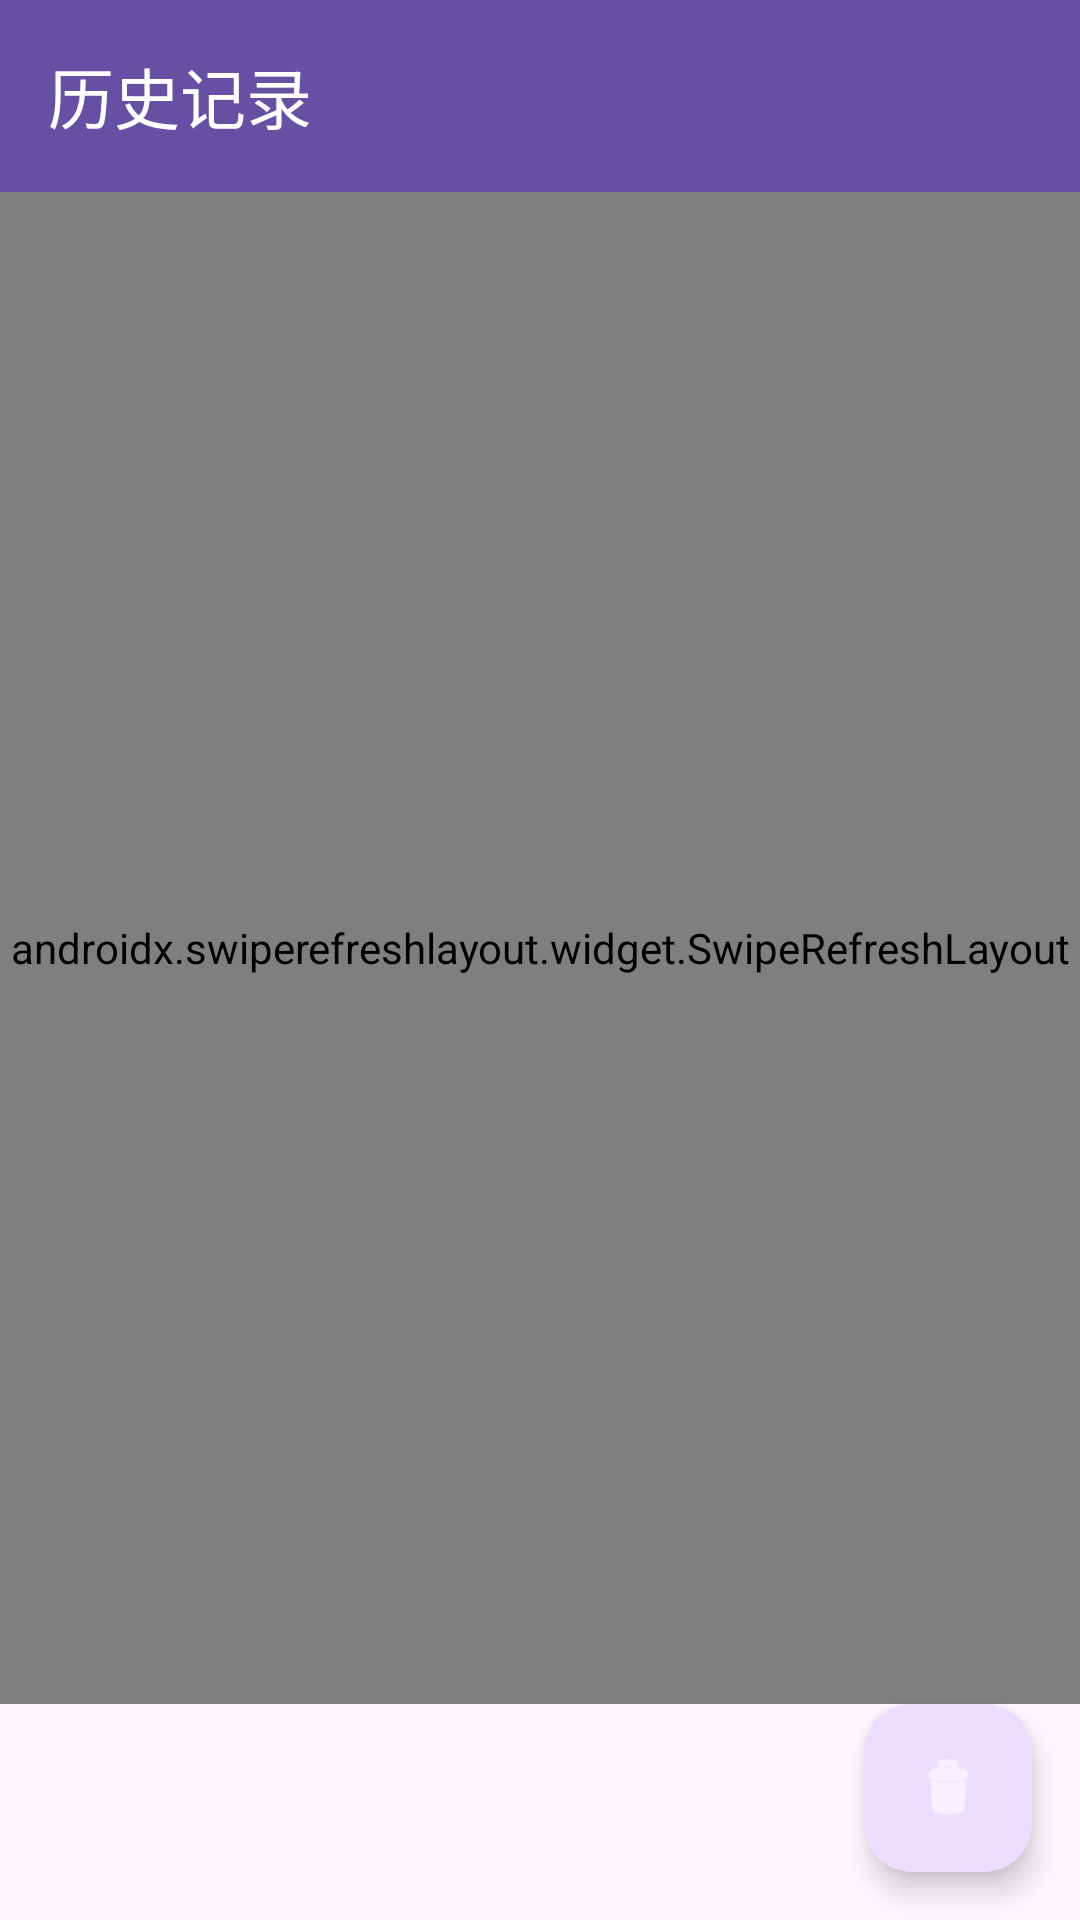

Screen size 1080×1920. Icon name, then its center in pixels as (x,y):
清空历史: (948,1788)
